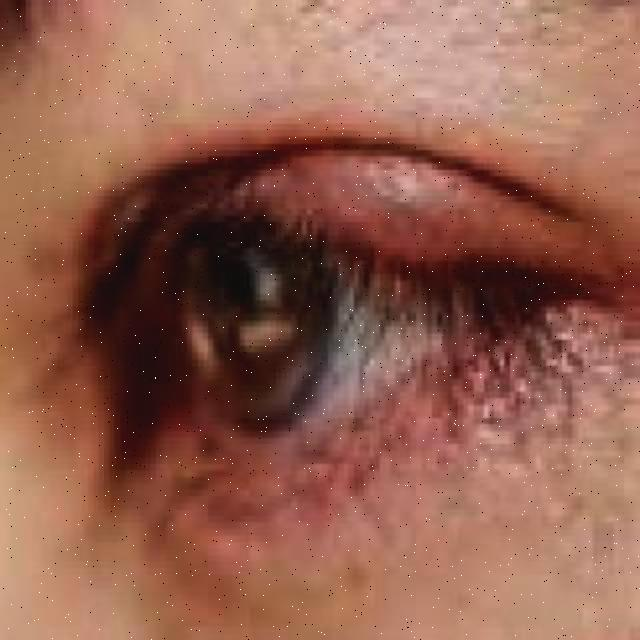Stye: (213, 127, 635, 315)
